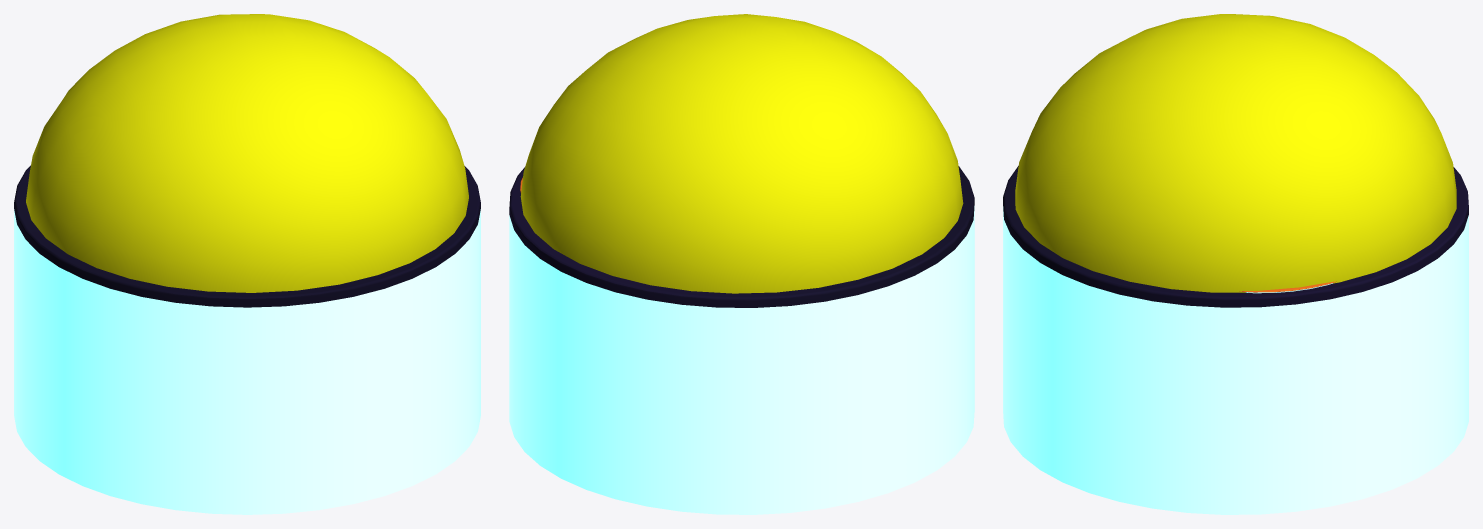
File: SmallIsland_Pref_V01.fbx
The picture shows the model from 3 angles, left to right: view 1: azimuth 30°, elevation 25°; view 2: azimuth 150°, elevation 25°; view 3: azimuth 270°, elevation 25°; orthographic projection.
Visible parts, largest first — view 1: MeshBaker__0__mesh_mesh; view 2: MeshBaker__0__mesh_mesh; view 3: MeshBaker__0__mesh_mesh.
Part boxes in pixels (<box>): MeshBaker__0__mesh_mesh: <box>14,14,480,514</box>; MeshBaker__0__mesh_mesh: <box>509,14,974,514</box>; MeshBaker__0__mesh_mesh: <box>1003,14,1468,514</box>.
Bounding box in the file's own units: 4108 × 3688 × 4108.
